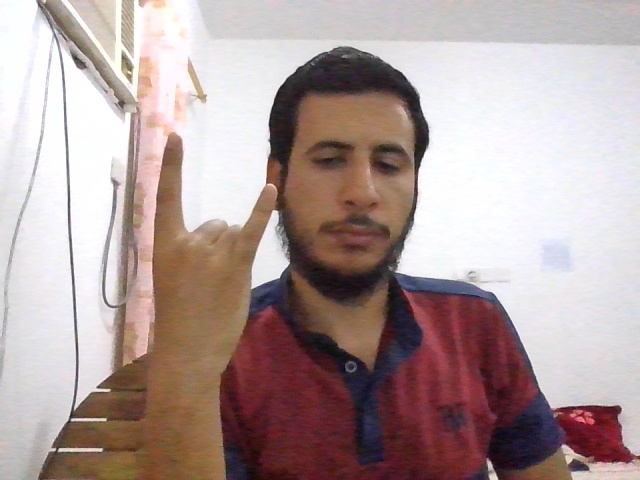Two: (152, 134, 277, 362)
